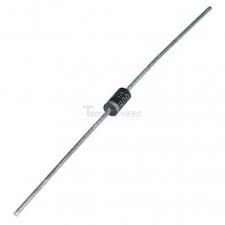diode: (83, 71, 149, 136)
